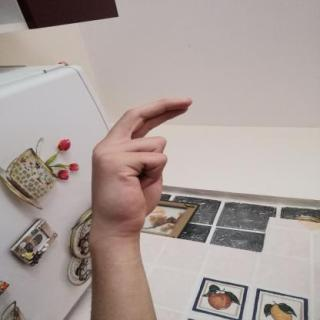ZAY: (79, 92, 201, 238)
